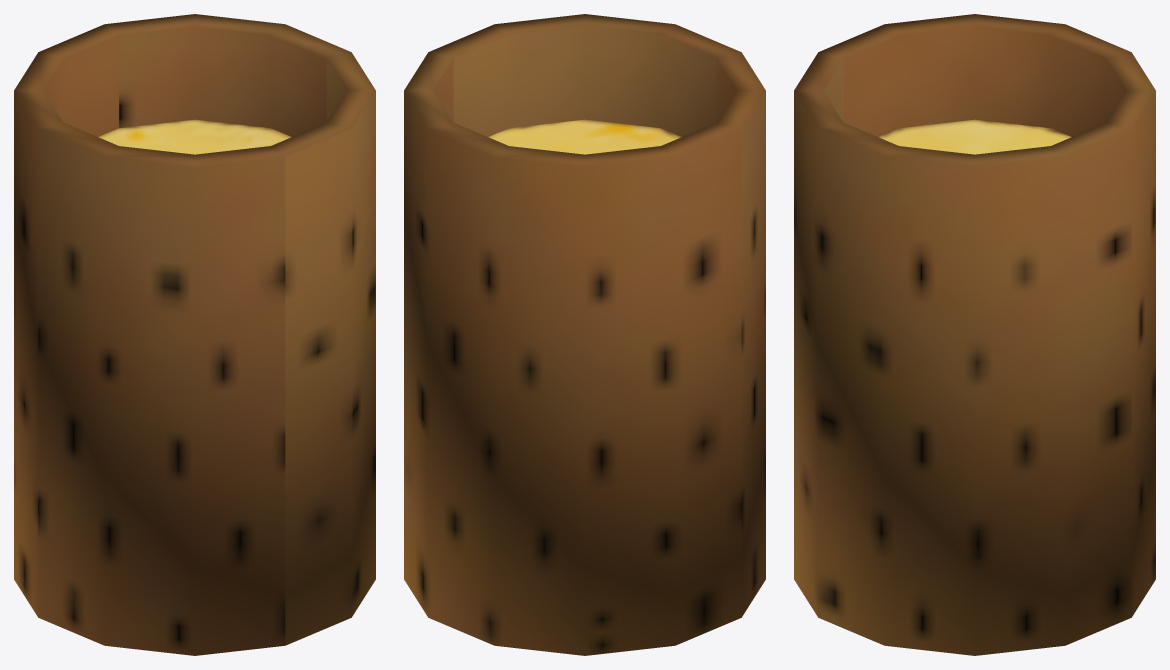
The model's file is CheeseMoldFull3.fbx.
The picture shows the model from 3 angles, left to right: view 1: azimuth 30°, elevation 25°; view 2: azimuth 150°, elevation 25°; view 3: azimuth 270°, elevation 25°; orthographic projection.
Visible parts, largest first — view 1: Cylinder; view 2: Cylinder; view 3: Cylinder.
Boxes of the visible parts, x1=… form: Cylinder: x1=14, y1=14, x2=375, y2=655; Cylinder: x1=404, y1=14, x2=765, y2=655; Cylinder: x1=794, y1=14, x2=1155, y2=655.
Size of the model in its own units: 0.147 by 0.2192 by 0.147.
